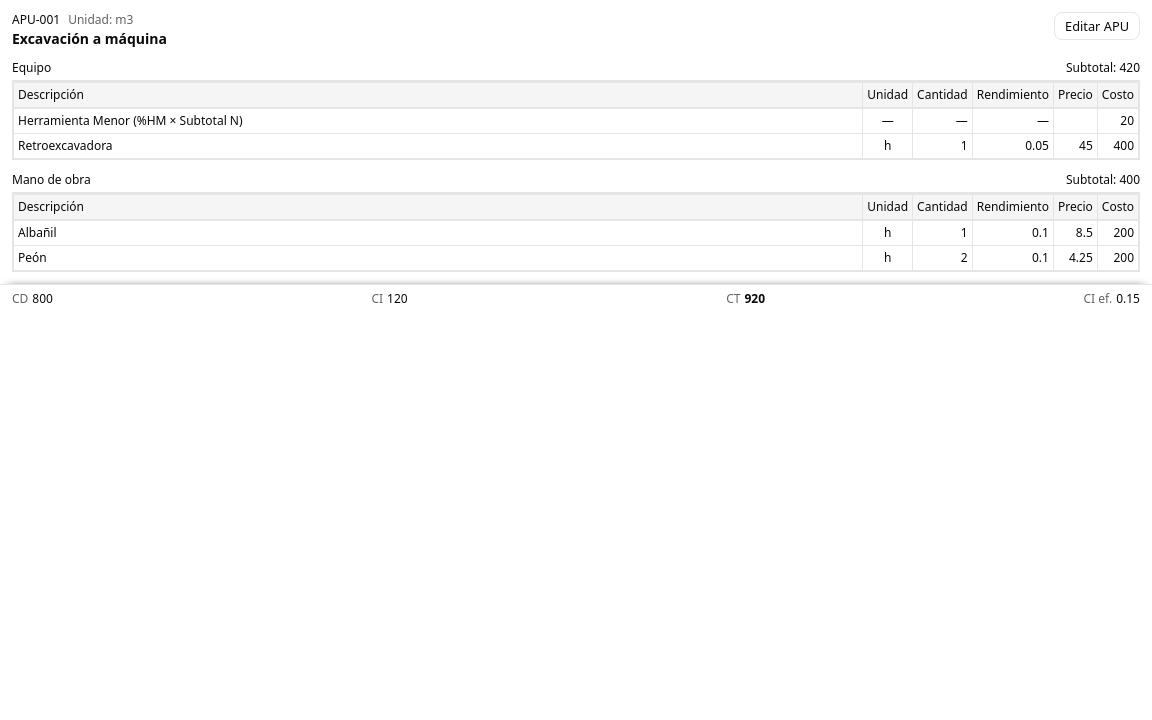
Scenario: PestanaApu › restores keyboard focus after closing nested Desglose
Click the button with aria-label "Editar APU completo".
click(1097, 26)  # box [1054,12,1140,40]
(page scrolled)
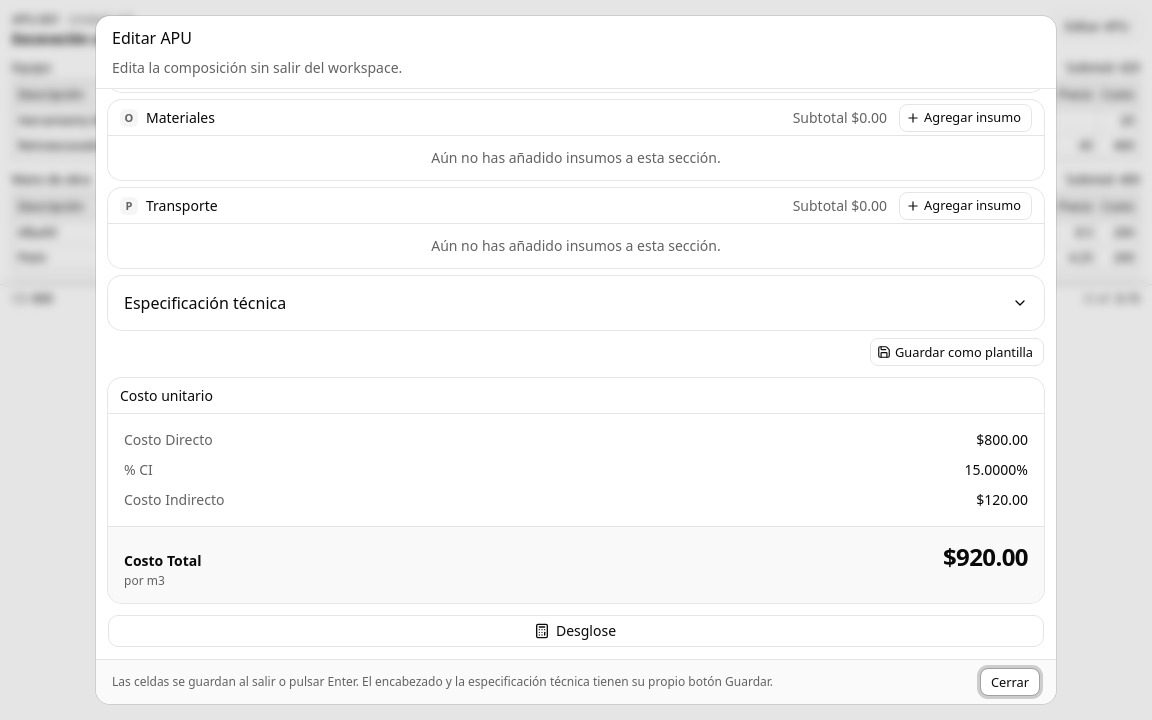
Click the button "Desglose".
click(576, 631)  # box [108,615,1044,647]
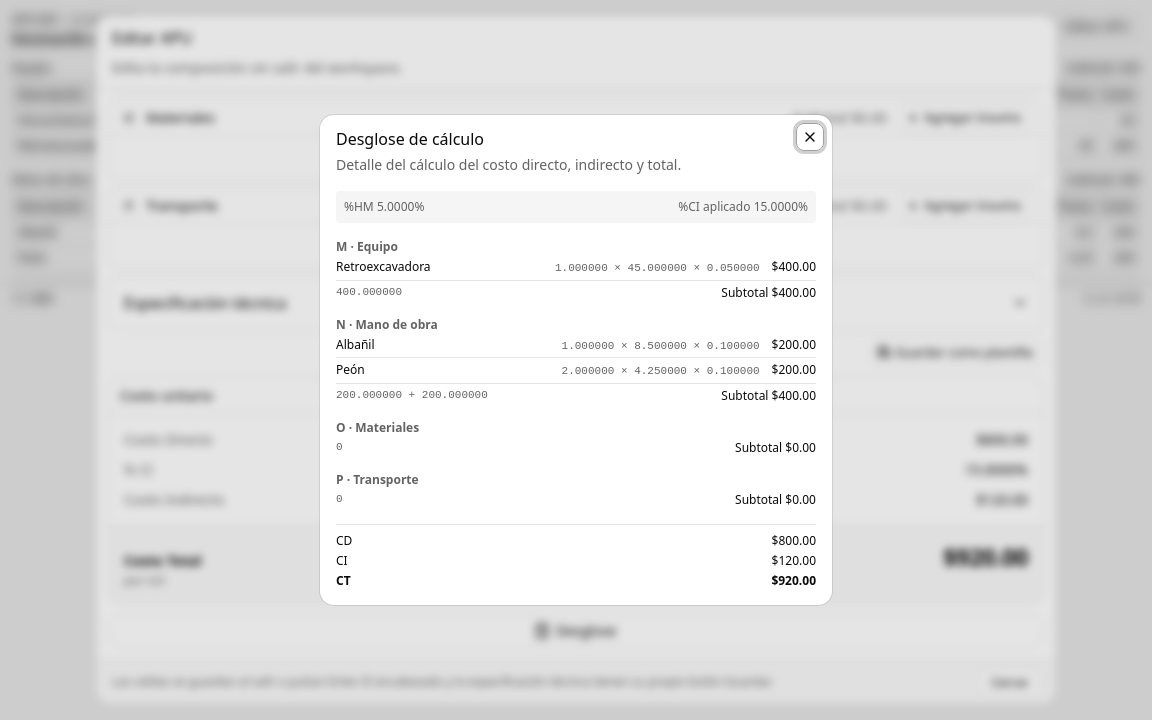
Expected: the dialog "Desglose de cálculo" is shown, [320,115,832,605]
Press Escape
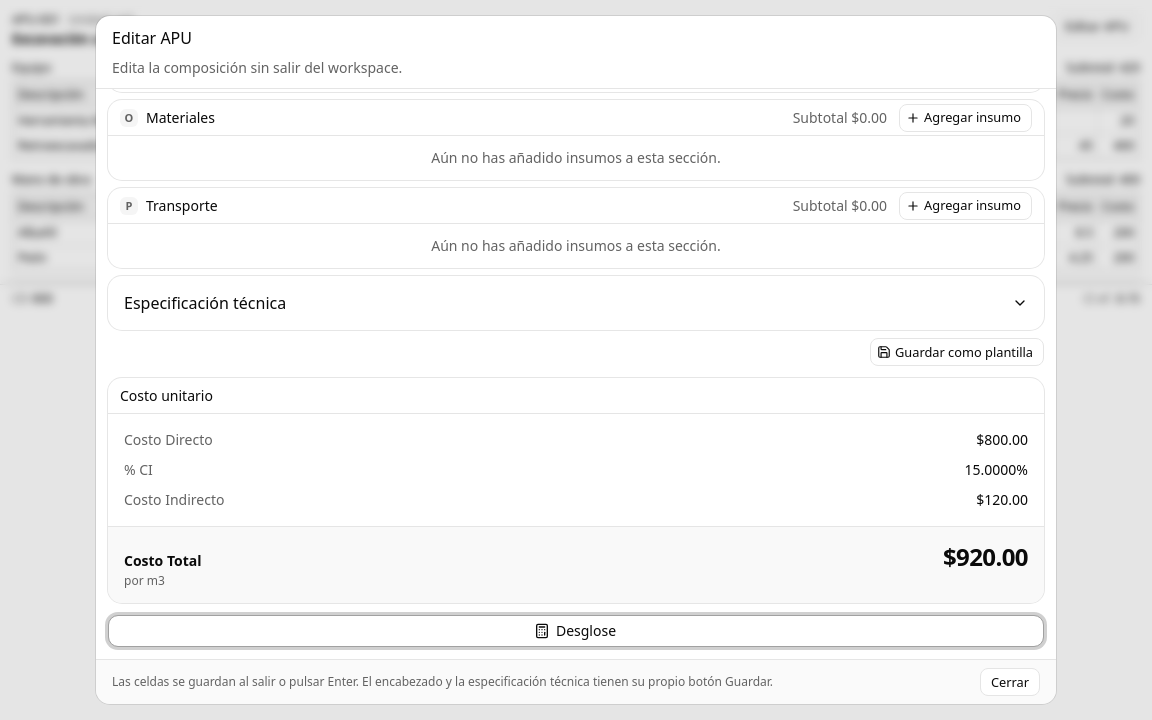
Expected: the heading "Desglose de cálculo" is gone
